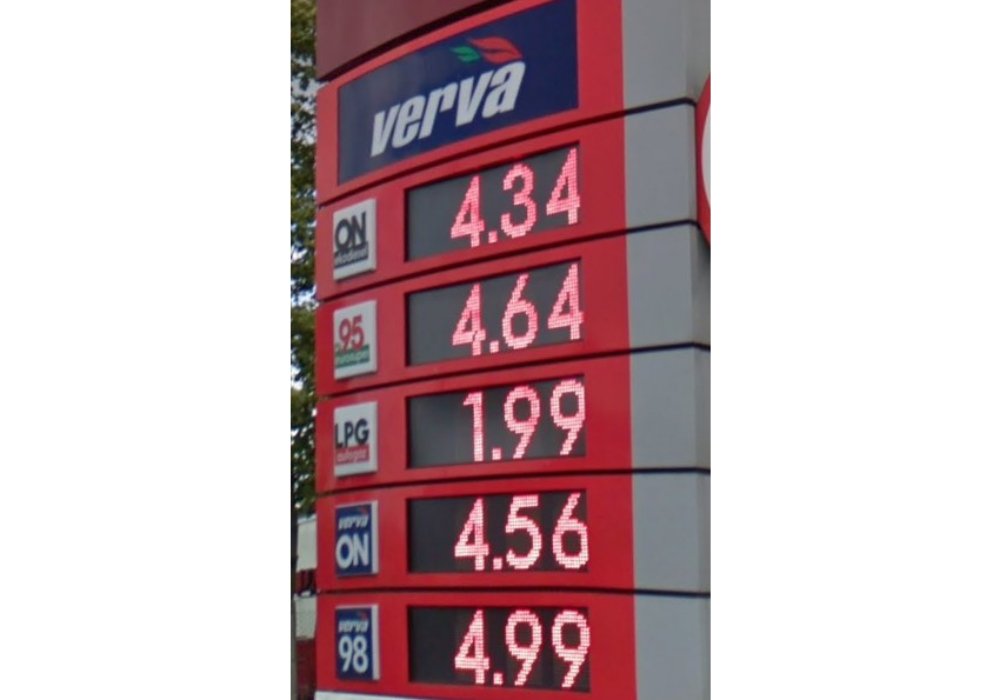LPG: (328, 398, 382, 480)
ON: (328, 195, 379, 285), (329, 498, 379, 582)
PB95: (328, 297, 382, 381)
PB98: (332, 601, 378, 683)
